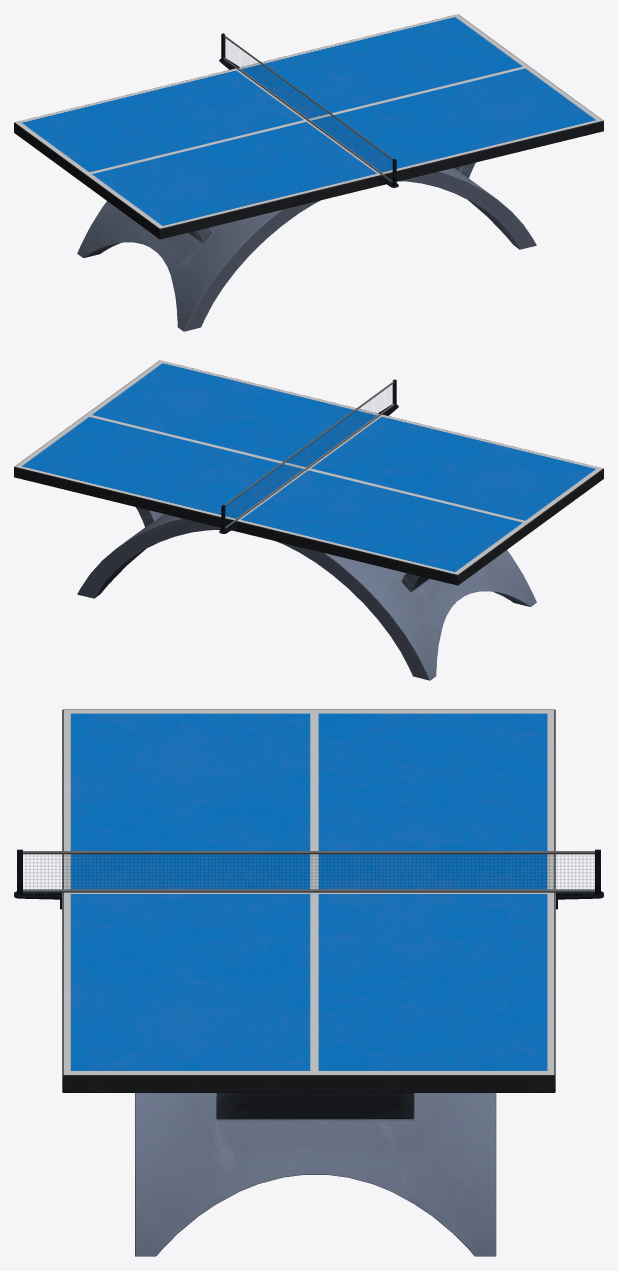
The model's file is mesa.glb.
3 views of the same model, one above another, from view 1: azimuth 30°, elevation 25°; view 2: azimuth 150°, elevation 25°; view 3: azimuth 270°, elevation 25° (orthographic). The views are drawn at different scales.
Parts seen in each view (by area): view 1: ping pong; view 2: ping pong; view 3: ping pong.
Part boxes in pixels (box(x1,y1,x2,y2)): ping pong: box(14, 14, 603, 331); ping pong: box(14, 360, 603, 680); ping pong: box(14, 709, 603, 1256).
Bounding box in the file's own units: 2.72 × 0.903 × 1.85.
2 materials, 2 textured.
